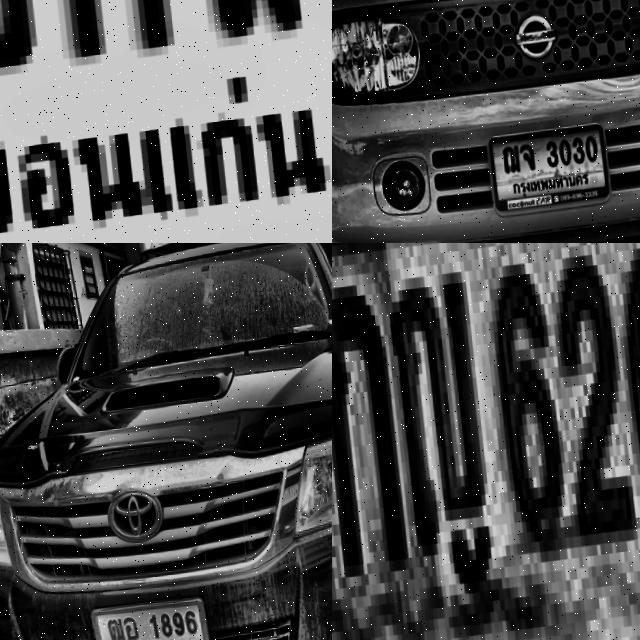license-plate: (332, 243, 640, 640), (0, 0, 332, 243), (463, 119, 625, 235), (84, 594, 208, 640)
